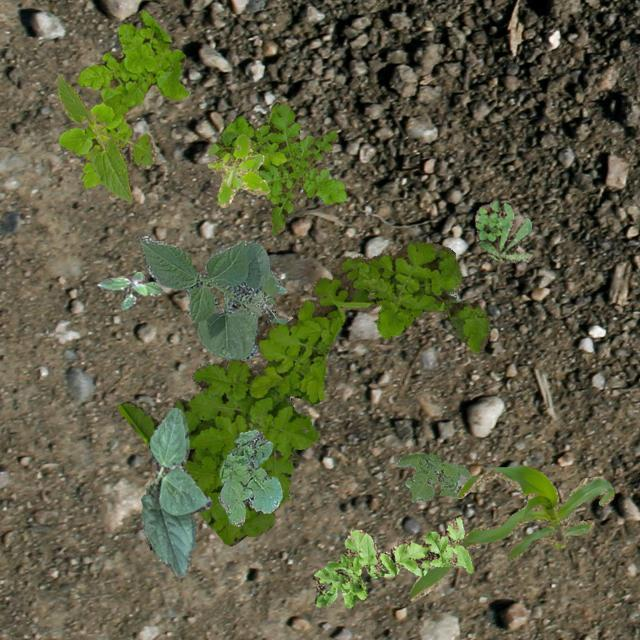crop: (408, 464, 612, 600), (138, 234, 268, 358), (140, 406, 212, 576), (56, 74, 132, 200)
weed: (117, 240, 490, 544), (58, 9, 188, 188), (207, 100, 346, 234), (312, 516, 472, 606), (218, 428, 282, 524), (207, 132, 270, 206), (394, 452, 470, 502), (474, 200, 532, 262), (96, 270, 162, 310), (248, 270, 288, 324)
